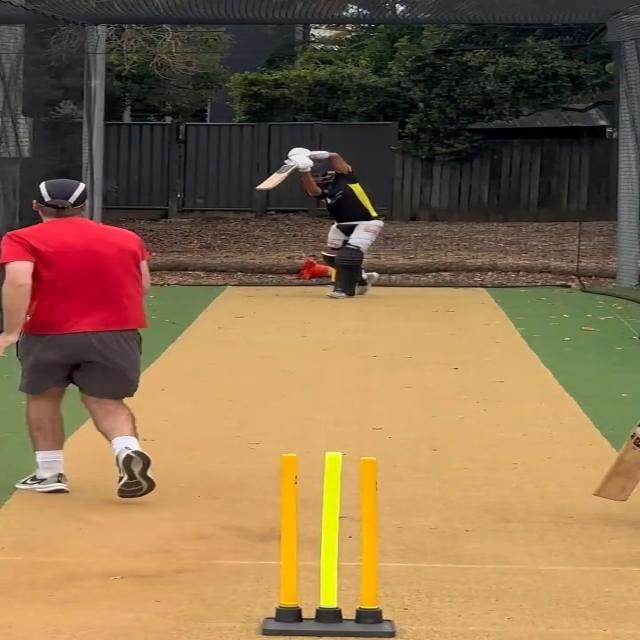stump: (259, 448, 396, 640)
